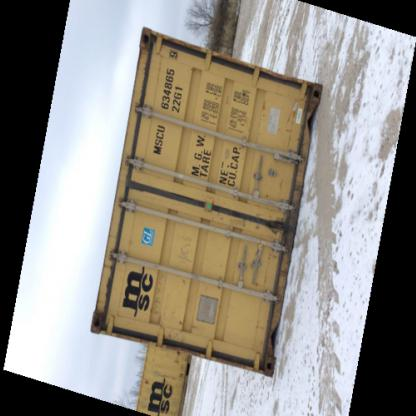Damage: (279, 91, 303, 149), (246, 205, 286, 235), (156, 314, 188, 344), (134, 34, 154, 76), (254, 326, 270, 372), (98, 262, 118, 296), (204, 87, 232, 111), (87, 306, 107, 334), (256, 93, 270, 124), (177, 236, 191, 262), (216, 147, 231, 168)
